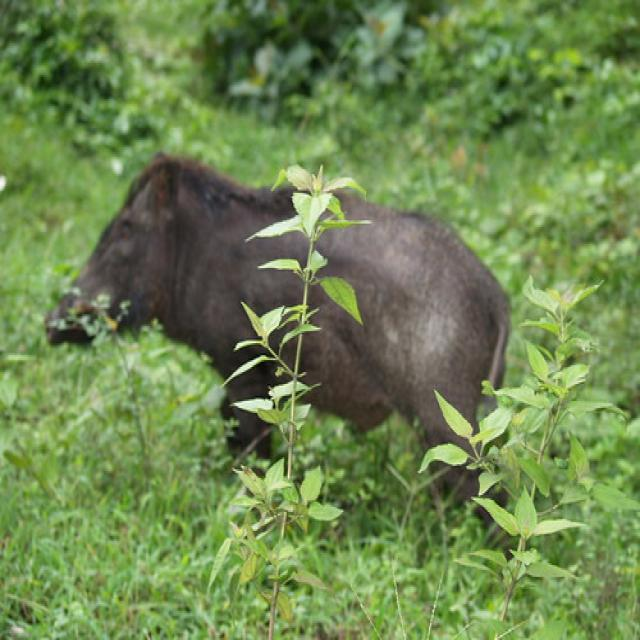boar: (41, 136, 529, 530)
